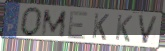E: (66, 11, 89, 41)
K: (114, 13, 134, 43), (91, 12, 111, 42)
M: (40, 9, 68, 39)
O: (20, 6, 44, 38)
V: (137, 14, 160, 45)
